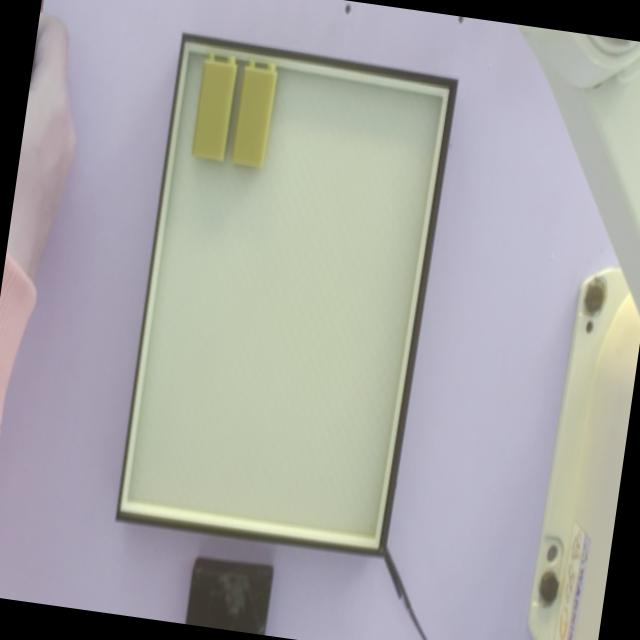bateria: (192, 53, 238, 163), (232, 61, 277, 165)
mesa: (115, 33, 458, 559)
